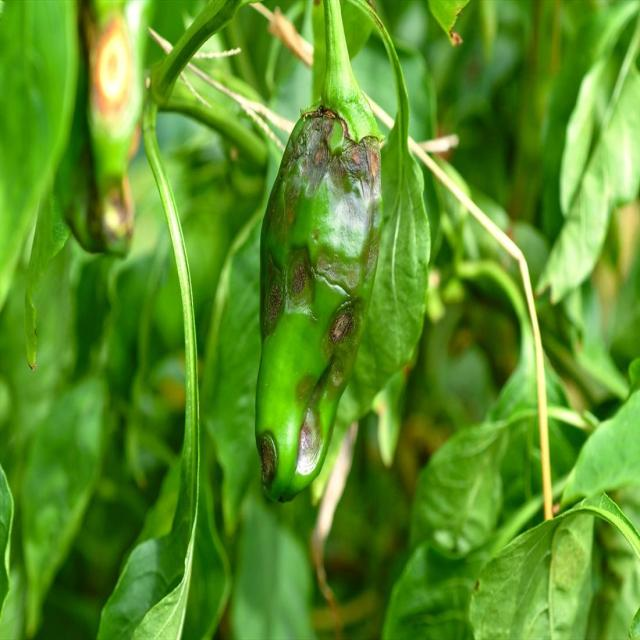Moko: (284, 68, 392, 219), (251, 426, 285, 507), (328, 282, 360, 363), (283, 227, 313, 307), (257, 257, 287, 336)
